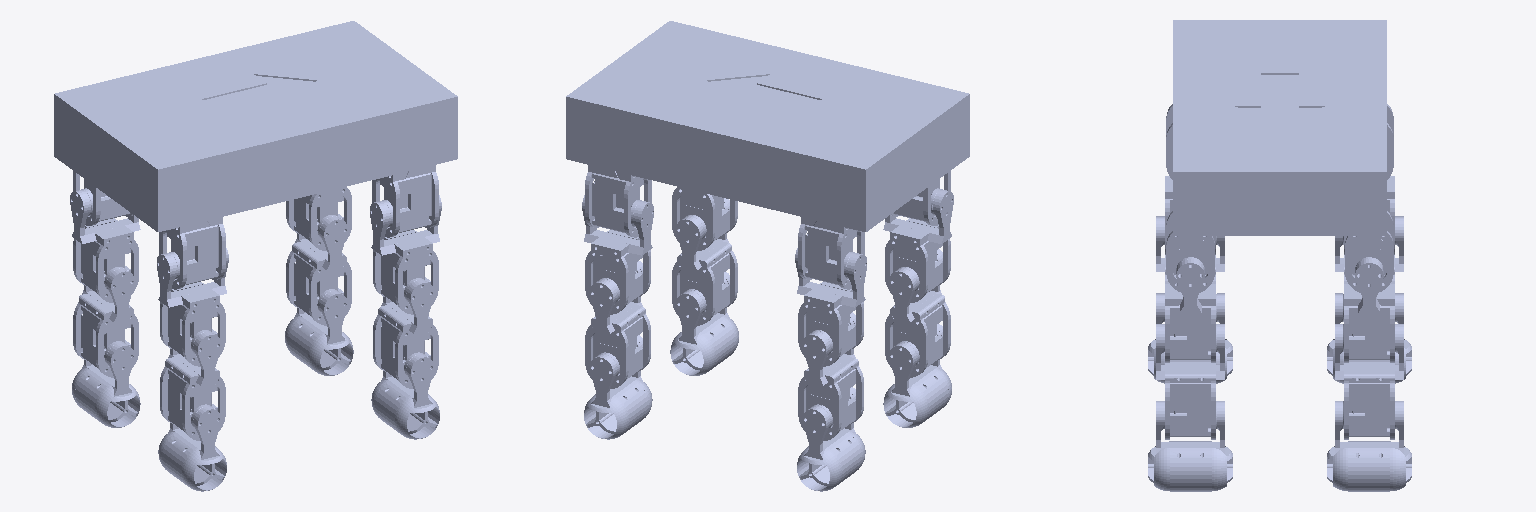
The robot description file, URDF, robot "WalkBot4Leg":
<?xml version="1.0" encoding="utf-8"?>
<!-- This URDF was automatically created by SolidWorks to URDF Exporter! Originally created by [author] ([email redacted]) 
     Commit Version: 1.6.0-4-g7f85cfe  Build Version: 1.6.7995.38578
     For more information, please see http://wiki.ros.org/sw_urdf_exporter -->
<robot
  name="WalkBot4Leg">
  <link
    name="Body">
    <inertial>
      <origin
        xyz="8.17357455831758E-06 -8.19433772982188E-07 -0.00300170877774881"
        rpy="0 0 0" />
      <mass
        value="1.03985350556727" />
      <inertia
        ixx="0.0013074898058424"
        ixy="3.36188956883995E-10"
        ixz="1.6052198943185E-07"
        iyy="0.00339179073259683"
        iyz="5.51431836645647E-09"
        izz="0.00441758469225806" />
    </inertial>
    <visual>
      <origin
        xyz="0 0 0"
        rpy="0 0 0" />
      <geometry>
        <mesh
          filename="package://WalkBot4Leg/meshes/Body.STL" />
      </geometry>
      <material
        name="">
        <color
          rgba="0.792156862745098 0.819607843137255 0.933333333333333 1" />
      </material>
    </visual>
    <collision>
      <origin
        xyz="0 0 0"
        rpy="0 0 0" />
      <geometry>
        <mesh
          filename="package://WalkBot4Leg/meshes/Body.STL" />
      </geometry>
    </collision>
  </link>
  <link
    name="FR1_Servo">
    <inertial>
      <origin
        xyz="6.63024617987423E-05 0.00017480111947784 -0.0318010030269155"
        rpy="0 0 0" />
      <mass
        value="0.0230007365895397" />
      <inertia
        ixx="2.85194124414614E-06"
        ixy="-8.41838748723456E-11"
        ixz="-1.37683480361865E-09"
        iyy="3.38038527155297E-06"
        iyz="2.66636683877568E-09"
        izz="1.0750315407539E-06" />
    </inertial>
    <visual>
      <origin
        xyz="0 0 0"
        rpy="0 0 0" />
      <geometry>
        <mesh
          filename="package://WalkBot4Leg/meshes/FR1_Servo.STL" />
      </geometry>
      <material
        name="">
        <color
          rgba="0.792156862745098 0.819607843137255 0.933333333333333 1" />
      </material>
    </visual>
    <collision>
      <origin
        xyz="0 0 0"
        rpy="0 0 0" />
      <geometry>
        <mesh
          filename="package://WalkBot4Leg/meshes/FR1_Servo.STL" />
      </geometry>
    </collision>
  </link>
  <joint
    name="FR1"
    type="revolute">
    <origin
      xyz="0.071 -0.05 -0.048856"
      rpy="0 0 0" />
    <parent
      link="Body" />
    <child
      link="FR1_Servo" />
    <axis
      xyz="1 0 0" />
    <limit
      lower="-1.5708"
      upper="1.5708"
      effort="0.52"
      velocity="10.89" />
  </joint>
  <link
    name="FR2_Servo">
    <inertial>
      <origin
        xyz="9.42397503328474E-06 0.000235907986100521 -0.0319962115408565"
        rpy="0 0 0" />
      <mass
        value="0.0226043083522871" />
      <inertia
        ixx="2.83878279589868E-06"
        ixy="-8.29162619229471E-11"
        ixz="-1.37858113386998E-09"
        iyy="3.27436167088692E-06"
        iyz="2.66811008456604E-09"
        izz="1.11333471633781E-06" />
    </inertial>
    <visual>
      <origin
        xyz="0 0 0"
        rpy="0 0 0" />
      <geometry>
        <mesh
          filename="package://WalkBot4Leg/meshes/FR2_Servo.STL" />
      </geometry>
      <material
        name="">
        <color
          rgba="0.792156862745098 0.819607843137255 0.933333333333333 1" />
      </material>
    </visual>
    <collision>
      <origin
        xyz="0 0 0"
        rpy="0 0 0" />
      <geometry>
        <mesh
          filename="package://WalkBot4Leg/meshes/FR2_Servo.STL" />
      </geometry>
    </collision>
  </link>
  <joint
    name="FR2"
    type="revolute">
    <origin
      xyz="0 0 -0.047416"
      rpy="0 0 0" />
    <parent
      link="FR1_Servo" />
    <child
      link="FR2_Servo" />
    <axis
      xyz="0 -1 0" />
    <limit
      lower="-1.5708"
      upper="1.5708"
      effort="0.52"
      velocity="10.89" />
  </joint>
  <link
    name="FR3_Servo">
    <inertial>
      <origin
        xyz="2.80851150669115E-09 8.14892709388171E-05 -0.0246574562466224"
        rpy="0 0 0" />
      <mass
        value="0.0161002375604621" />
      <inertia
        ixx="1.4738916006442E-06"
        ixy="6.80558854091741E-14"
        ixz="-1.41793132680958E-13"
        iyy="1.7994604546192E-06"
        iyz="1.24376477956603E-12"
        izz="1.23532312259261E-06" />
    </inertial>
    <visual>
      <origin
        xyz="0 0 0"
        rpy="0 0 0" />
      <geometry>
        <mesh
          filename="package://WalkBot4Leg/meshes/FR3_Servo.STL" />
      </geometry>
      <material
        name="">
        <color
          rgba="0.792156862745098 0.819607843137255 0.933333333333333 1" />
      </material>
    </visual>
    <collision>
      <origin
        xyz="0 0 0"
        rpy="0 0 0" />
      <geometry>
        <mesh
          filename="package://WalkBot4Leg/meshes/FR3_Servo.STL" />
      </geometry>
    </collision>
  </link>
  <joint
    name="FR3"
    type="revolute">
    <origin
      xyz="0 0 -0.0474161341528267"
      rpy="0 0 0" />
    <parent
      link="FR2_Servo" />
    <child
      link="FR3_Servo" />
    <axis
      xyz="0 -1 0" />
    <limit
      lower="-1.5708"
      upper="1.5708"
      effort="0.52"
      velocity="10.89" />
  </joint>
  <link
    name="FL1_Servo">
    <inertial>
      <origin
        xyz="6.63024617987423E-05 0.00017480111947786 -0.0318010030269155"
        rpy="0 0 0" />
      <mass
        value="0.0230007365895397" />
      <inertia
        ixx="2.85194124414614E-06"
        ixy="-8.41838748722835E-11"
        ixz="-1.37683480361837E-09"
        iyy="3.38038527155296E-06"
        iyz="2.66636683877603E-09"
        izz="1.0750315407539E-06" />
    </inertial>
    <visual>
      <origin
        xyz="0 0 0"
        rpy="0 0 0" />
      <geometry>
        <mesh
          filename="package://WalkBot4Leg/meshes/FL1_Servo.STL" />
      </geometry>
      <material
        name="">
        <color
          rgba="0.792156862745098 0.819607843137255 0.933333333333333 1" />
      </material>
    </visual>
    <collision>
      <origin
        xyz="0 0 0"
        rpy="0 0 0" />
      <geometry>
        <mesh
          filename="package://WalkBot4Leg/meshes/FL1_Servo.STL" />
      </geometry>
    </collision>
  </link>
  <joint
    name="FL1"
    type="revolute">
    <origin
      xyz="0.071 0.05 -0.048856"
      rpy="0 0 0" />
    <parent
      link="Body" />
    <child
      link="FL1_Servo" />
    <axis
      xyz="1 0 0" />
    <limit
      lower="-1.5708"
      upper="1.5708"
      effort="0.52"
      velocity="10.89" />
  </joint>
  <link
    name="FL2_Servo">
    <inertial>
      <origin
        xyz="9.42397503331249E-06 0.000235907986100507 -0.0319962115408566"
        rpy="0 0 0" />
      <mass
        value="0.0226043083522871" />
      <inertia
        ixx="2.83878279589868E-06"
        ixy="-8.29162619230321E-11"
        ixz="-1.37858113387105E-09"
        iyy="3.27436167088692E-06"
        iyz="2.66811008456623E-09"
        izz="1.11333471633781E-06" />
    </inertial>
    <visual>
      <origin
        xyz="0 0 0"
        rpy="0 0 0" />
      <geometry>
        <mesh
          filename="package://WalkBot4Leg/meshes/FL2_Servo.STL" />
      </geometry>
      <material
        name="">
        <color
          rgba="0.792156862745098 0.819607843137255 0.933333333333333 1" />
      </material>
    </visual>
    <collision>
      <origin
        xyz="0 0 0"
        rpy="0 0 0" />
      <geometry>
        <mesh
          filename="package://WalkBot4Leg/meshes/FL2_Servo.STL" />
      </geometry>
    </collision>
  </link>
  <joint
    name="FL2"
    type="revolute">
    <origin
      xyz="0 0 -0.0474161341528266"
      rpy="0 0 0" />
    <parent
      link="FL1_Servo" />
    <child
      link="FL2_Servo" />
    <axis
      xyz="0 -1 0" />
    <limit
      lower="-1.5708"
      upper="1.5708"
      effort="0.52"
      velocity="10.89" />
  </joint>
  <link
    name="FL3_Servo">
    <inertial>
      <origin
        xyz="2.80851150669115E-09 8.14892709388101E-05 -0.0246574562466224"
        rpy="0 0 0" />
      <mass
        value="0.0161002375604621" />
      <inertia
        ixx="1.4738916006442E-06"
        ixy="6.80558844491914E-14"
        ixz="-1.41793131288249E-13"
        iyy="1.7994604546192E-06"
        iyz="1.24376477968061E-12"
        izz="1.23532312259261E-06" />
    </inertial>
    <visual>
      <origin
        xyz="0 0 0"
        rpy="0 0 0" />
      <geometry>
        <mesh
          filename="package://WalkBot4Leg/meshes/FL3_Servo.STL" />
      </geometry>
      <material
        name="">
        <color
          rgba="0.792156862745098 0.819607843137255 0.933333333333333 1" />
      </material>
    </visual>
    <collision>
      <origin
        xyz="0 0 0"
        rpy="0 0 0" />
      <geometry>
        <mesh
          filename="package://WalkBot4Leg/meshes/FL3_Servo.STL" />
      </geometry>
    </collision>
  </link>
  <joint
    name="FL3"
    type="revolute">
    <origin
      xyz="0 0 -0.0474161341528267"
      rpy="0 0 0" />
    <parent
      link="FL2_Servo" />
    <child
      link="FL3_Servo" />
    <axis
      xyz="0 -1 0" />
    <limit
      lower="-1.5708"
      upper="1.5708"
      effort="0.52"
      velocity="10.89" />
  </joint>
  <link
    name="BR1_Servo">
    <inertial>
      <origin
        xyz="6.63024617987701E-05 0.00017480111947784 -0.0318010030269155"
        rpy="0 0 0" />
      <mass
        value="0.0230007365895397" />
      <inertia
        ixx="2.85194124414614E-06"
        ixy="-8.41838748724024E-11"
        ixz="-1.37683480361918E-09"
        iyy="3.38038527155296E-06"
        iyz="2.66636683877558E-09"
        izz="1.0750315407539E-06" />
    </inertial>
    <visual>
      <origin
        xyz="0 0 0"
        rpy="0 0 0" />
      <geometry>
        <mesh
          filename="package://WalkBot4Leg/meshes/BR1_Servo.STL" />
      </geometry>
      <material
        name="">
        <color
          rgba="0.792156862745098 0.819607843137255 0.933333333333333 1" />
      </material>
    </visual>
    <collision>
      <origin
        xyz="0 0 0"
        rpy="0 0 0" />
      <geometry>
        <mesh
          filename="package://WalkBot4Leg/meshes/BR1_Servo.STL" />
      </geometry>
    </collision>
  </link>
  <joint
    name="BR1"
    type="revolute">
    <origin
      xyz="-0.071 -0.05 -0.048856"
      rpy="0 0 0" />
    <parent
      link="Body" />
    <child
      link="BR1_Servo" />
    <axis
      xyz="1 0 0" />
    <limit
      lower="-1.5708"
      upper="1.5708"
      effort="0.52"
      velocity="10.89" />
  </joint>
  <link
    name="BR2_Servo">
    <inertial>
      <origin
        xyz="9.42397503334025E-06 0.000235907986100507 -0.0319962115408566"
        rpy="0 0 0" />
      <mass
        value="0.0226043083522871" />
      <inertia
        ixx="2.83878279589868E-06"
        ixy="-8.29162619231961E-11"
        ixz="-1.37858113386865E-09"
        iyy="3.27436167088693E-06"
        iyz="2.66811008456743E-09"
        izz="1.11333471633782E-06" />
    </inertial>
    <visual>
      <origin
        xyz="0 0 0"
        rpy="0 0 0" />
      <geometry>
        <mesh
          filename="package://WalkBot4Leg/meshes/BR2_Servo.STL" />
      </geometry>
      <material
        name="">
        <color
          rgba="0.792156862745098 0.819607843137255 0.933333333333333 1" />
      </material>
    </visual>
    <collision>
      <origin
        xyz="0 0 0"
        rpy="0 0 0" />
      <geometry>
        <mesh
          filename="package://WalkBot4Leg/meshes/BR2_Servo.STL" />
      </geometry>
    </collision>
  </link>
  <joint
    name="BR2"
    type="revolute">
    <origin
      xyz="0 0 -0.0474161341528266"
      rpy="0 0 0" />
    <parent
      link="BR1_Servo" />
    <child
      link="BR2_Servo" />
    <axis
      xyz="0 -1 0" />
    <limit
      lower="-1.5708"
      upper="1.5708"
      effort="0.52"
      velocity="10.89" />
  </joint>
  <link
    name="BR3_Servo">
    <inertial>
      <origin
        xyz="2.80851152056893E-09 8.14892709388032E-05 -0.0246574562466224"
        rpy="0 0 0" />
      <mass
        value="0.0161002375604621" />
      <inertia
        ixx="1.4738916006442E-06"
        ixy="6.80558846871444E-14"
        ixz="-1.41793131387294E-13"
        iyy="1.7994604546192E-06"
        iyz="1.24376478037032E-12"
        izz="1.23532312259261E-06" />
    </inertial>
    <visual>
      <origin
        xyz="0 0 0"
        rpy="0 0 0" />
      <geometry>
        <mesh
          filename="package://WalkBot4Leg/meshes/BR3_Servo.STL" />
      </geometry>
      <material
        name="">
        <color
          rgba="0.792156862745098 0.819607843137255 0.933333333333333 1" />
      </material>
    </visual>
    <collision>
      <origin
        xyz="0 0 0"
        rpy="0 0 0" />
      <geometry>
        <mesh
          filename="package://WalkBot4Leg/meshes/BR3_Servo.STL" />
      </geometry>
    </collision>
  </link>
  <joint
    name="BR3"
    type="revolute">
    <origin
      xyz="0 0 -0.0474161341528267"
      rpy="0 0 0" />
    <parent
      link="BR2_Servo" />
    <child
      link="BR3_Servo" />
    <axis
      xyz="0 -1 0" />
    <limit
      lower="-1.5708"
      upper="1.5708"
      effort="0.52"
      velocity="10.89" />
  </joint>
  <link
    name="BL1_Servo">
    <inertial>
      <origin
        xyz="6.63024617987423E-05 0.000174801119477846 -0.0318010030269155"
        rpy="0 0 0" />
      <mass
        value="0.0230007365895397" />
      <inertia
        ixx="2.85194124414614E-06"
        ixy="-8.41838748722174E-11"
        ixz="-1.37683480361879E-09"
        iyy="3.38038527155297E-06"
        iyz="2.66636683877589E-09"
        izz="1.0750315407539E-06" />
    </inertial>
    <visual>
      <origin
        xyz="0 0 0"
        rpy="0 0 0" />
      <geometry>
        <mesh
          filename="package://WalkBot4Leg/meshes/BL1_Servo.STL" />
      </geometry>
      <material
        name="">
        <color
          rgba="0.792156862745098 0.819607843137255 0.933333333333333 1" />
      </material>
    </visual>
    <collision>
      <origin
        xyz="0 0 0"
        rpy="0 0 0" />
      <geometry>
        <mesh
          filename="package://WalkBot4Leg/meshes/BL1_Servo.STL" />
      </geometry>
    </collision>
  </link>
  <joint
    name="BL1"
    type="revolute">
    <origin
      xyz="-0.071 0.05 -0.0488561341528267"
      rpy="0 0 0" />
    <parent
      link="Body" />
    <child
      link="BL1_Servo" />
    <axis
      xyz="1 0 0" />
    <limit
      lower="-1.5708"
      upper="1.5708"
      effort="0.52"
      velocity="10.89" />
  </joint>
  <link
    name="BL2_Servo">
    <inertial>
      <origin
        xyz="9.42397503332637E-06 0.000235907986100514 -0.0319962115408565"
        rpy="0 0 0" />
      <mass
        value="0.0226043083522871" />
      <inertia
        ixx="2.83878279589868E-06"
        ixy="-8.29162619232249E-11"
        ixz="-1.37858113386771E-09"
        iyy="3.27436167088693E-06"
        iyz="2.66811008456579E-09"
        izz="1.11333471633782E-06" />
    </inertial>
    <visual>
      <origin
        xyz="0 0 0"
        rpy="0 0 0" />
      <geometry>
        <mesh
          filename="package://WalkBot4Leg/meshes/BL2_Servo.STL" />
      </geometry>
      <material
        name="">
        <color
          rgba="0.792156862745098 0.819607843137255 0.933333333333333 1" />
      </material>
    </visual>
    <collision>
      <origin
        xyz="0 0 0"
        rpy="0 0 0" />
      <geometry>
        <mesh
          filename="package://WalkBot4Leg/meshes/BL2_Servo.STL" />
      </geometry>
    </collision>
  </link>
  <joint
    name="BL2"
    type="revolute">
    <origin
      xyz="0 0 -0.0474161341528266"
      rpy="0 0 0" />
    <parent
      link="BL1_Servo" />
    <child
      link="BL2_Servo" />
    <axis
      xyz="0 -1 0" />
    <limit
      lower="-1.5708"
      upper="1.5708"
      effort="0.52"
      velocity="10.89" />
  </joint>
  <link
    name="BL3_Servo">
    <inertial>
      <origin
        xyz="2.80851153444672E-09 8.1489270938824E-05 -0.0246574562466223"
        rpy="0 0 0" />
      <mass
        value="0.0161002375604621" />
      <inertia
        ixx="1.47389160064419E-06"
        ixy="6.8055884941132E-14"
        ixz="-1.41793131575691E-13"
        iyy="1.79946045461919E-06"
        iyz="1.24376477874739E-12"
        izz="1.23532312259261E-06" />
    </inertial>
    <visual>
      <origin
        xyz="0 0 0"
        rpy="0 0 0" />
      <geometry>
        <mesh
          filename="package://WalkBot4Leg/meshes/BL3_Servo.STL" />
      </geometry>
      <material
        name="">
        <color
          rgba="0.792156862745098 0.819607843137255 0.933333333333333 1" />
      </material>
    </visual>
    <collision>
      <origin
        xyz="0 0 0"
        rpy="0 0 0" />
      <geometry>
        <mesh
          filename="package://WalkBot4Leg/meshes/BL3_Servo.STL" />
      </geometry>
    </collision>
  </link>
  <joint
    name="BL3"
    type="revolute">
    <origin
      xyz="0 0 -0.0474161341528267"
      rpy="0 0 0" />
    <parent
      link="BL2_Servo" />
    <child
      link="BL3_Servo" />
    <axis
      xyz="0 -1 0" />
    <limit
      lower="-1.5708"
      upper="1.5708"
      effort="0.52"
      velocity="10.89" />
  </joint>
</robot>

--- What the picture shows (computed from the rendered views, not written in the file) ---
The picture shows the robot from 3 angles, left to right: view 1: azimuth 30°, elevation 25°; view 2: azimuth 150°, elevation 25°; view 3: azimuth 270°, elevation 25°; orthographic projection.
Robot: WalkBot4Leg — 13 links, 12 joints (12 revolute); root link Body; default pose: every joint at zero.
Visible links, largest first — view 1: Body, FR1_Servo, BR1_Servo, BL1_Servo, FR2_Servo, BR2_Servo, BL2_Servo, FL2_Servo, BR3_Servo, FL3_Servo, BL3_Servo, FR3_Servo (+1 smaller); view 2: Body, FL1_Servo, BL1_Servo, BR1_Servo, FL2_Servo, BL2_Servo, BR2_Servo, FR2_Servo, BR3_Servo, BL3_Servo, FR3_Servo, FL3_Servo (+1 smaller); view 3: Body, FR2_Servo, FL2_Servo, FR3_Servo, FL3_Servo, FR1_Servo, FL1_Servo, BR3_Servo, BL3_Servo, BR2_Servo, BL2_Servo.
Link boxes in pixels (x1,y1,x2,y2): Body: (54, 21, 457, 289); FR1_Servo: (370, 195, 441, 314); BR1_Servo: (157, 248, 228, 366); BL1_Servo: (70, 188, 140, 302); FR2_Servo: (373, 278, 438, 388); BR2_Servo: (160, 330, 225, 440); BL2_Servo: (73, 267, 138, 377); FL2_Servo: (286, 215, 351, 325); BR3_Servo: (158, 404, 226, 491); FL3_Servo: (285, 289, 353, 375); BL3_Servo: (72, 341, 140, 427); FR3_Servo: (371, 352, 439, 439); Body: (566, 21, 969, 289); FL1_Servo: (582, 195, 653, 314); BL1_Servo: (795, 248, 866, 366); BR1_Servo: (883, 188, 953, 302); FL2_Servo: (585, 261, 650, 388); BL2_Servo: (798, 312, 863, 440); BR2_Servo: (885, 249, 950, 377); FR2_Servo: (672, 198, 737, 325); BR3_Servo: (883, 324, 951, 427); BL3_Servo: (797, 387, 865, 491); FR3_Servo: (670, 272, 738, 375); FL3_Servo: (584, 335, 652, 439); Body: (1166, 20, 1393, 292); FR2_Servo: (1156, 324, 1224, 439); FL2_Servo: (1335, 324, 1403, 439); FR3_Servo: (1148, 401, 1232, 491); FL3_Servo: (1327, 401, 1411, 491); FR1_Servo: (1165, 257, 1215, 362); FL1_Servo: (1344, 257, 1394, 362); BR3_Servo: (1148, 293, 1232, 383); BL3_Servo: (1327, 293, 1411, 383); BR2_Servo: (1156, 216, 1224, 283); BL2_Servo: (1335, 216, 1403, 283).
Size in the robot's own frame: 0.2 by 0.1474 by 0.2095 metres.
Meshes: 13 distinct files referenced, 13 mesh visuals loaded (13 binary STL).
